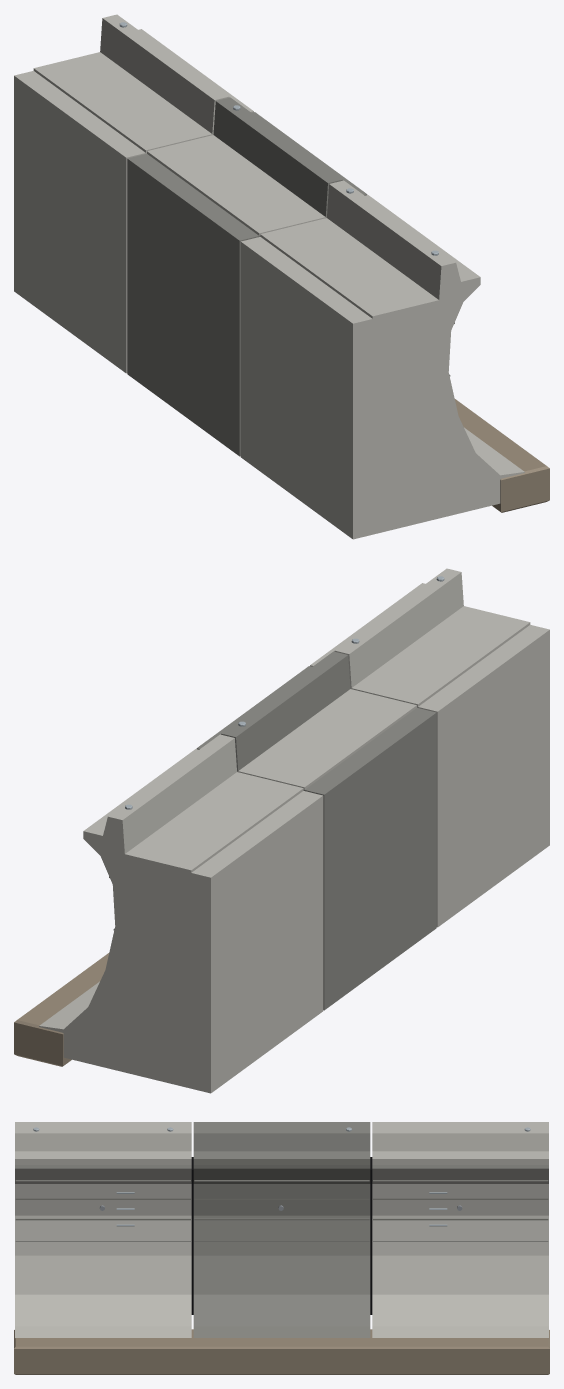
File: HARBOR_04.obj
The picture shows the model from 3 angles, top to bottom: view 1: azimuth 30°, elevation 25°; view 2: azimuth 150°, elevation 25°; view 3: azimuth 270°, elevation 25°; orthographic projection. The views are drawn at different scales.
Visible parts, largest first — view 1: HARBOR_04__section_3, HARBOR_04__section_2, HARBOR_04__section_1, HARBOR_04__section_3_cap, HARBOR_04__section_1_cap, HARBOR_04__section_2_cap, HARBOR_04__toe_apron; view 2: HARBOR_04__section_1, HARBOR_04__section_2, HARBOR_04__section_3, HARBOR_04__section_1_cap, HARBOR_04__section_2_cap, HARBOR_04__section_3_cap, HARBOR_04__toe_apron; view 3: HARBOR_04__section_2, HARBOR_04__section_1, HARBOR_04__section_3, HARBOR_04__toe_apron, HARBOR_04__section_2_courses, HARBOR_04__section_1_courses, HARBOR_04__section_3_courses, HARBOR_04__joints.
Part boxes in pixels (bbox=[...]): HARBOR_04__section_3: bbox=[240, 180, 524, 539]; HARBOR_04__section_2: bbox=[127, 97, 367, 456]; HARBOR_04__section_1: bbox=[14, 14, 253, 373]; HARBOR_04__section_3_cap: bbox=[260, 218, 438, 318]; HARBOR_04__section_1_cap: bbox=[33, 52, 213, 152]; HARBOR_04__section_2_cap: bbox=[147, 135, 325, 235]; HARBOR_04__toe_apron: bbox=[455, 399, 549, 512]; HARBOR_04__section_1: bbox=[39, 734, 323, 1093]; HARBOR_04__section_2: bbox=[196, 651, 436, 1010]; HARBOR_04__section_3: bbox=[310, 568, 549, 927]; HARBOR_04__section_1_cap: bbox=[124, 772, 303, 872]; HARBOR_04__section_2_cap: bbox=[237, 689, 416, 789]; HARBOR_04__section_3_cap: bbox=[351, 606, 530, 706]; HARBOR_04__toe_apron: bbox=[14, 953, 108, 1066]; HARBOR_04__section_2: bbox=[193, 1122, 370, 1337]; HARBOR_04__section_1: bbox=[372, 1122, 548, 1338]; HARBOR_04__section_3: bbox=[15, 1122, 191, 1338]; HARBOR_04__toe_apron: bbox=[14, 1329, 549, 1374]; HARBOR_04__section_2_courses: bbox=[194, 1180, 369, 1241]; HARBOR_04__section_1_courses: bbox=[373, 1180, 548, 1241]; HARBOR_04__section_3_courses: bbox=[15, 1180, 190, 1241]; HARBOR_04__joints: bbox=[191, 1157, 372, 1314].
Bounding box in the file's own units: 4 × 5.15 × 12.
